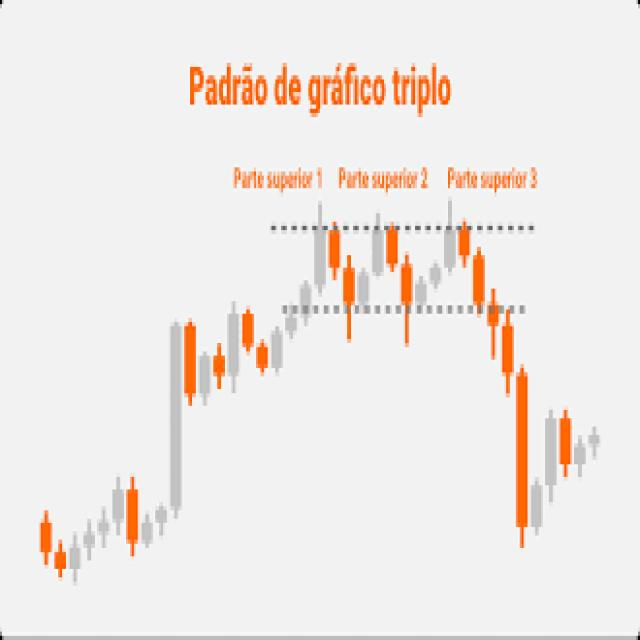oco: (161, 190, 612, 568)
